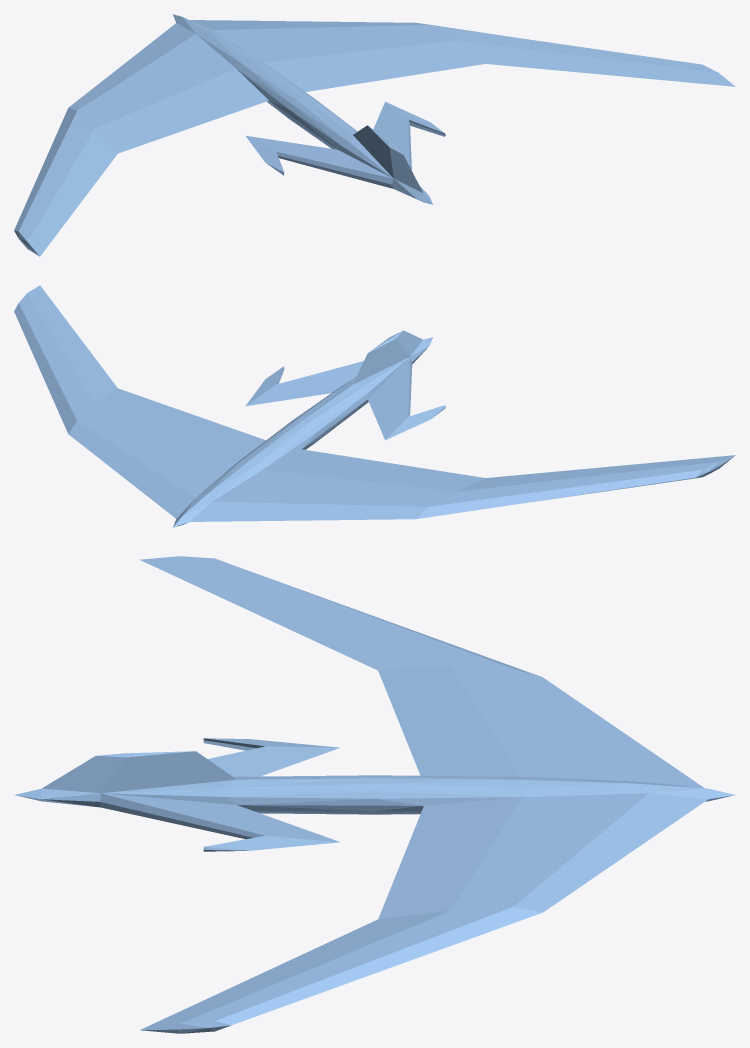
Rendered from avia1bi.glb.
3 views of the same model, one above another, from view 1: azimuth 30°, elevation 25°; view 2: azimuth 150°, elevation 25°; view 3: azimuth 270°, elevation 25° (orthographic). The views are drawn at different scales.
Parts seen in each view (by area): view 1: GeoSphere004; view 2: GeoSphere004; view 3: GeoSphere004.
Part boxes in pixels (x1=…): GeoSphere004: x1=14, y1=14, x2=735, y2=256; GeoSphere004: x1=14, y1=285, x2=735, y2=527; GeoSphere004: x1=15, y1=556, x2=734, y2=1033.
Size of the model in its own units: 8.71 by 0.5225 by 5.65.
